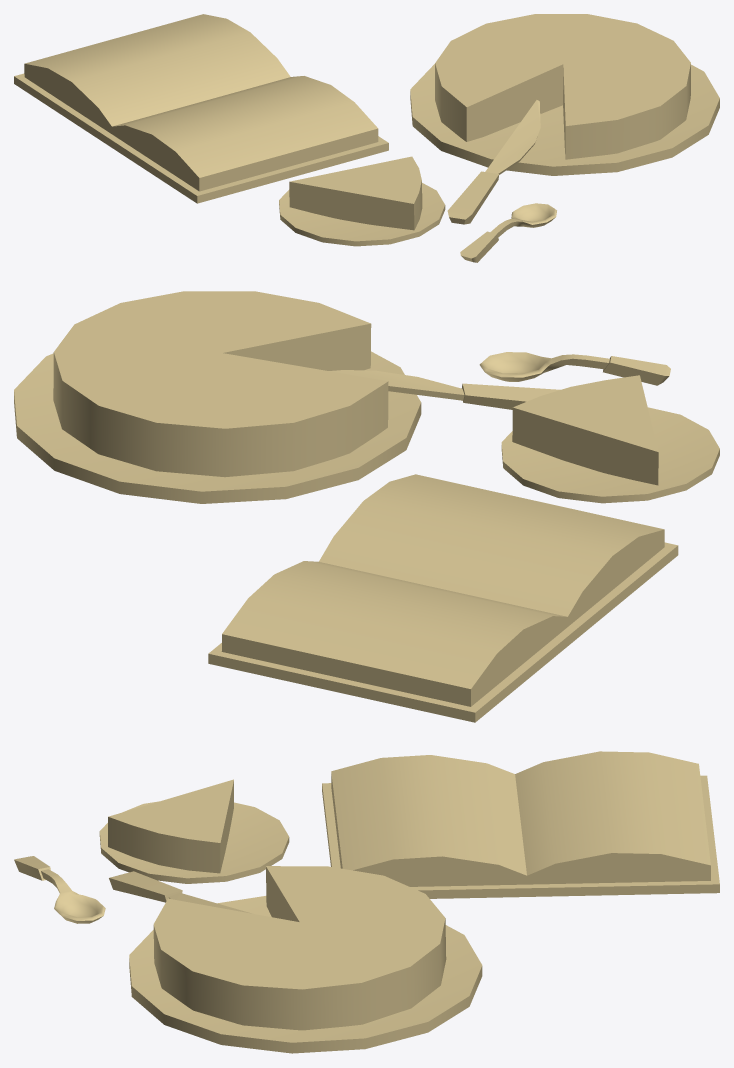
File: table_5.fbx
3 renders of one model, top to bottom at view 1: azimuth 30°, elevation 25°; view 2: azimuth 150°, elevation 25°; view 3: azimuth 270°, elevation 25°, orthographic. The views are drawn at different scales.
Visible parts, largest first — view 1: book_low, plate_1_low1, plate_2_low, knife_low, spoon_low; view 2: book_low, plate_1_low1, plate_2_low, spoon_low, knife_low; view 3: book_low, plate_1_low1, plate_2_low, spoon_low, knife_low.
Part boxes in pixels (x1,y1,x2,y2): book_low: (14,14,388,203); plate_1_low1: (410,14,719,175); plate_2_low: (279,156,445,246); knife_low: (447,100,540,224); spoon_low: (460,203,556,262); book_low: (208,474,678,722); plate_1_low1: (14,291,421,503); plate_2_low: (501,375,719,503); spoon_low: (479,352,670,385); knife_low: (329,370,560,409); book_low: (322,751,719,898); plate_1_low1: (129,866,482,1053); plate_2_low: (99,779,289,883); spoon_low: (14,856,105,923); knife_low: (109,871,251,913).
Size of the model in its own units: 69.48 by 7.83 by 73.26.
